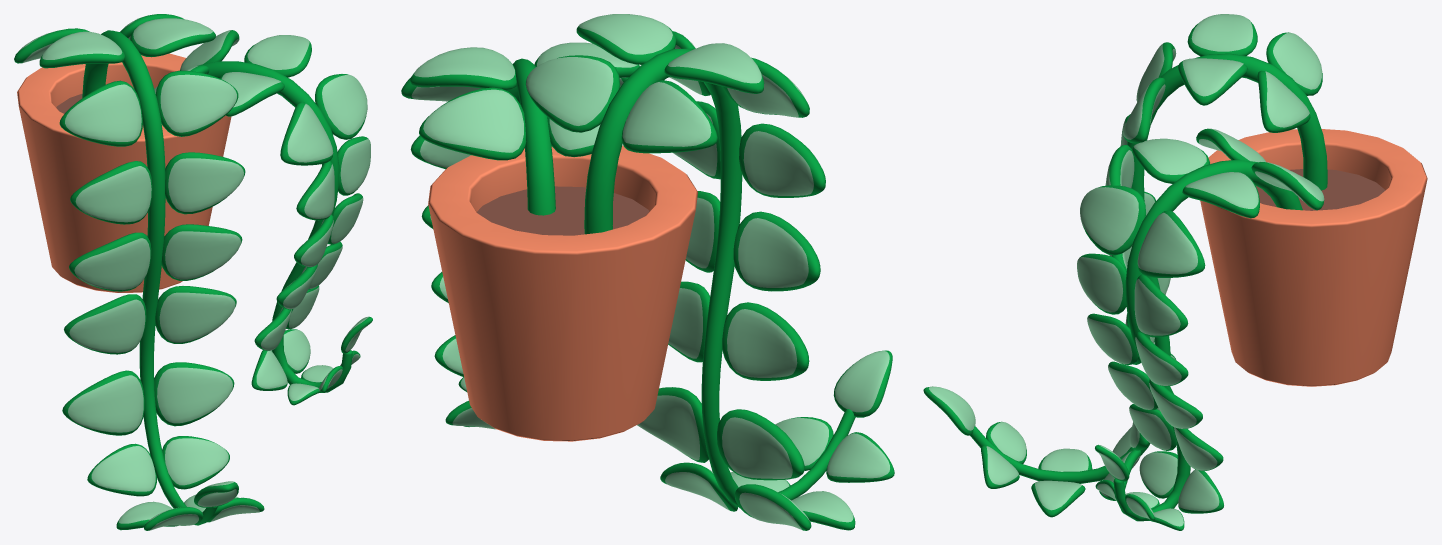
The model's file is City_16_Plant_2.glb.
3 views of the same model, side by side, from view 1: azimuth 30°, elevation 25°; view 2: azimuth 150°, elevation 25°; view 3: azimuth 270°, elevation 25° (orthographic). The views are drawn at different scales.
Parts seen in each view (by area): view 1: City_16_Plant_2; view 2: City_16_Plant_2; view 3: City_16_Plant_2.
Boxes of the visible parts, <box> form: City_16_Plant_2: <box>14,14,372,530</box>; City_16_Plant_2: <box>401,14,894,530</box>; City_16_Plant_2: <box>923,14,1427,530</box>.
Bounding box in the file's own units: 0.8121 × 1.05 × 1.06.
1 material, 1 textured.
